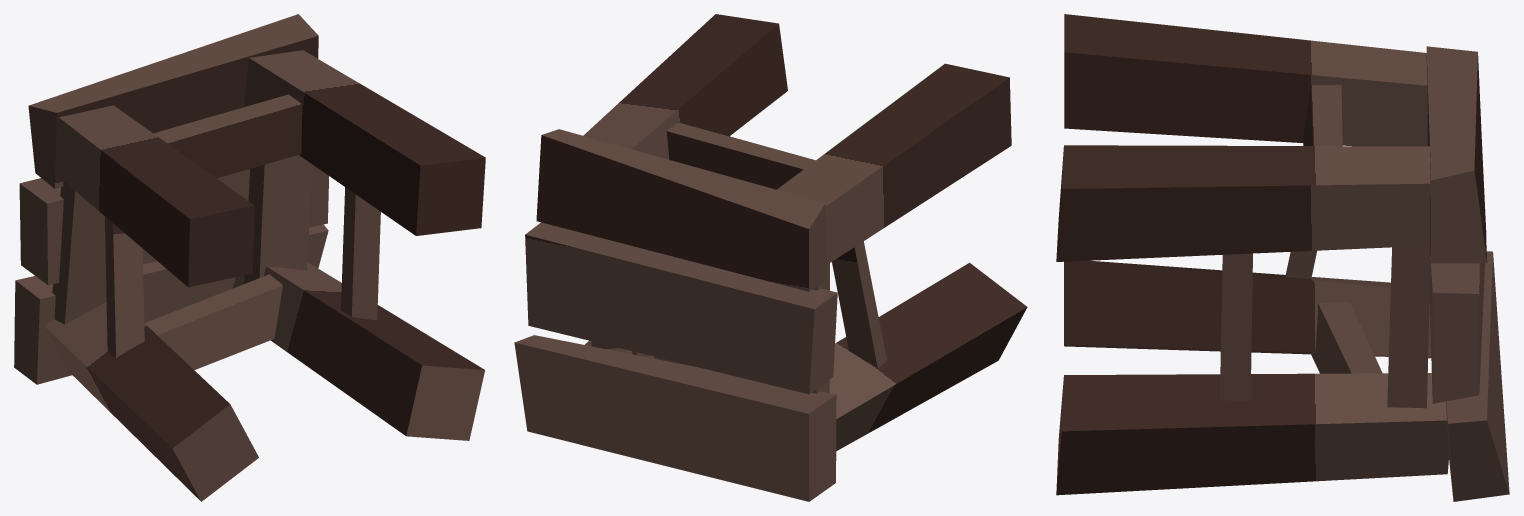
File: Stool.fbx
3 views of the same model, side by side, from view 1: azimuth 30°, elevation 25°; view 2: azimuth 150°, elevation 25°; view 3: azimuth 270°, elevation 25° (orthographic). The views are drawn at different scales.
Visible parts, largest first — view 1: Taburet; view 2: Taburet; view 3: Taburet.
Boxes of the visible parts, box(x1,y1,x2,y2) form: Taburet: box(14, 14, 485, 501); Taburet: box(514, 14, 1027, 501); Taburet: box(1056, 14, 1509, 501).
Size of the model in its own units: 33.41 by 28.56 by 35.09.
